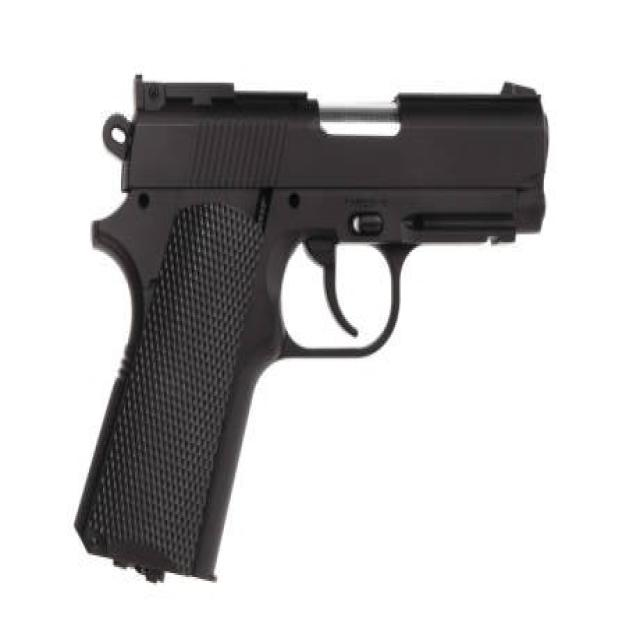pistol: (74, 73, 557, 589)
